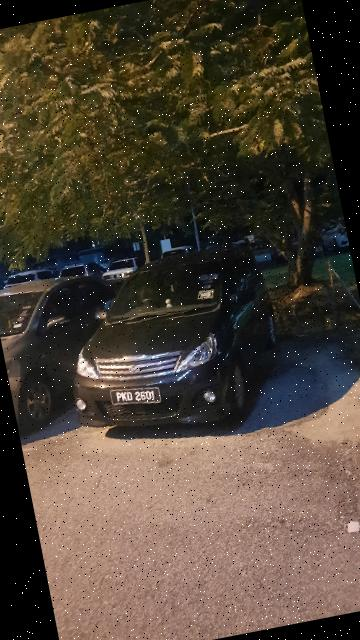License_Plate: (106, 379, 165, 414)
car: (49, 233, 300, 456)
